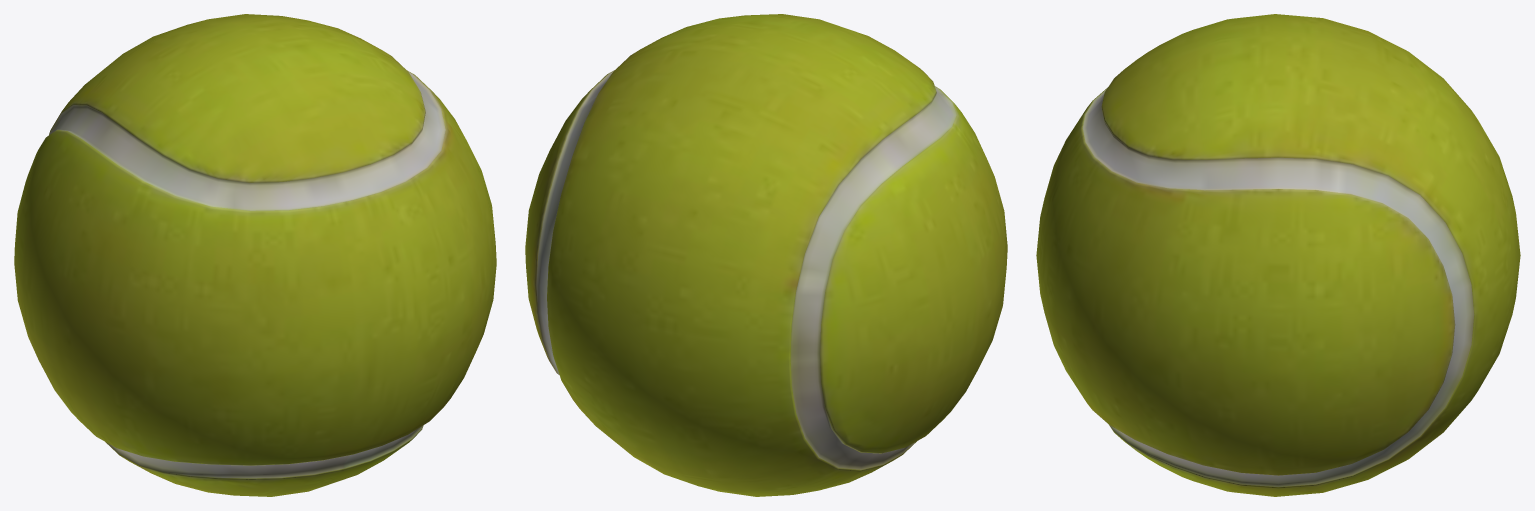
Rendered from tennis-ball.glb.
3 renders of one model, left to right at view 1: azimuth 30°, elevation 25°; view 2: azimuth 150°, elevation 25°; view 3: azimuth 270°, elevation 25°, orthographic.
Parts seen in each view (by area): view 1: tennis_ball; view 2: tennis_ball; view 3: tennis_ball.
Part boxes in pixels (box(x1,y1,x2,y2)): tennis_ball: box(14, 14, 496, 496); tennis_ball: box(525, 14, 1007, 496); tennis_ball: box(1036, 14, 1520, 496).
Bounding box in the file's own units: 0.1703 × 0.1703 × 0.1703.
1 material, 1 textured.
